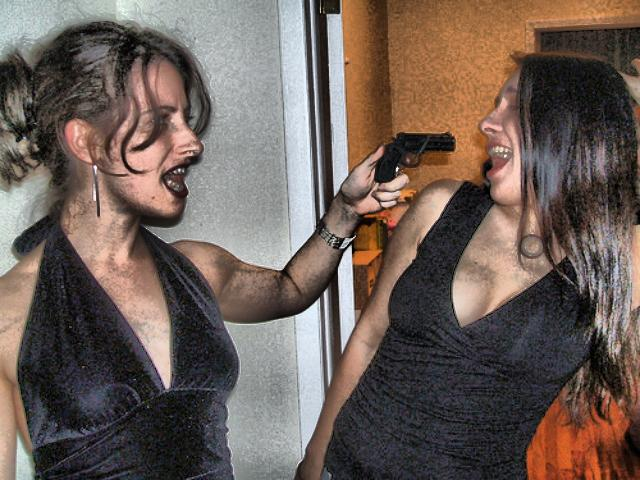pistol: (373, 127, 452, 185)
